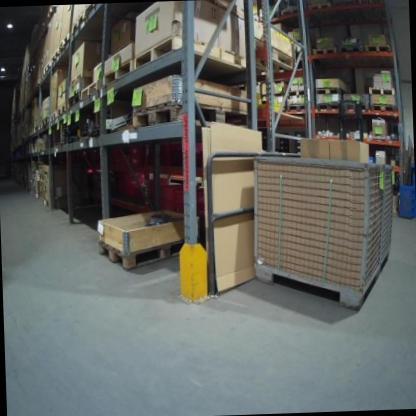pallet: (131, 31, 248, 72), (132, 100, 252, 134), (97, 235, 185, 274), (251, 36, 296, 74), (102, 59, 134, 88), (70, 7, 87, 37), (80, 79, 101, 102), (69, 68, 91, 87), (368, 85, 396, 97), (370, 102, 397, 114), (57, 32, 71, 55), (315, 86, 346, 96), (315, 100, 341, 111), (313, 45, 338, 56), (338, 43, 363, 54), (67, 91, 81, 109), (363, 43, 390, 52), (306, 2, 332, 11), (344, 102, 370, 111), (262, 79, 289, 86), (281, 7, 299, 17), (287, 89, 305, 99), (286, 102, 306, 111), (47, 5, 58, 21), (56, 102, 67, 118), (43, 60, 52, 76), (359, 0, 383, 6), (51, 48, 59, 64), (42, 117, 50, 128), (50, 111, 57, 123), (40, 196, 46, 205)
pallet_truck: (329, 91, 369, 166)
stillage: (250, 143, 400, 314)
